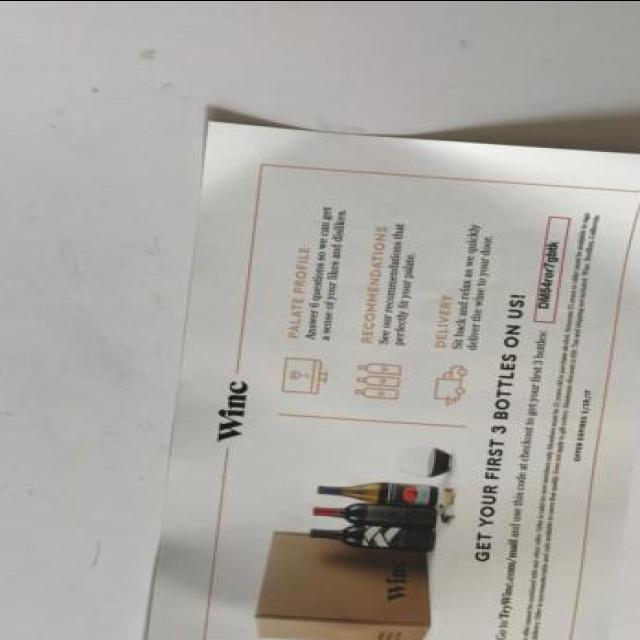kertas: (144, 118, 640, 640)
